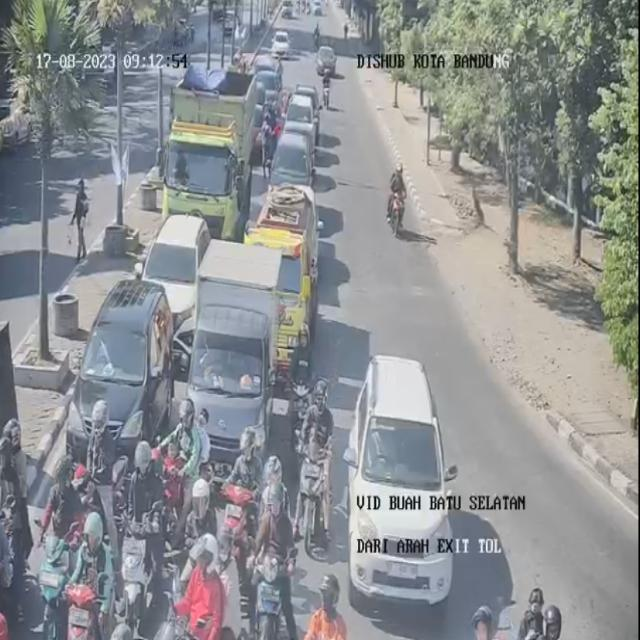bunch of motorcycle: (12, 452, 176, 637)
cars: (352, 344, 460, 600), (74, 277, 171, 463), (143, 216, 205, 344), (272, 130, 313, 204), (286, 92, 317, 146), (252, 60, 280, 110), (286, 118, 317, 154), (254, 56, 283, 88), (316, 45, 336, 87), (298, 85, 322, 118), (272, 30, 291, 56)
motorcycle: (38, 458, 92, 640), (129, 440, 172, 618), (0, 413, 36, 568), (81, 398, 116, 540), (68, 522, 110, 638), (302, 390, 335, 528), (180, 539, 225, 640), (230, 422, 264, 547), (183, 476, 222, 584), (301, 577, 354, 640), (255, 544, 289, 638), (387, 157, 412, 237), (464, 604, 515, 640), (322, 70, 334, 106)
truck: (186, 227, 312, 480), (166, 60, 259, 238), (261, 187, 315, 273)
